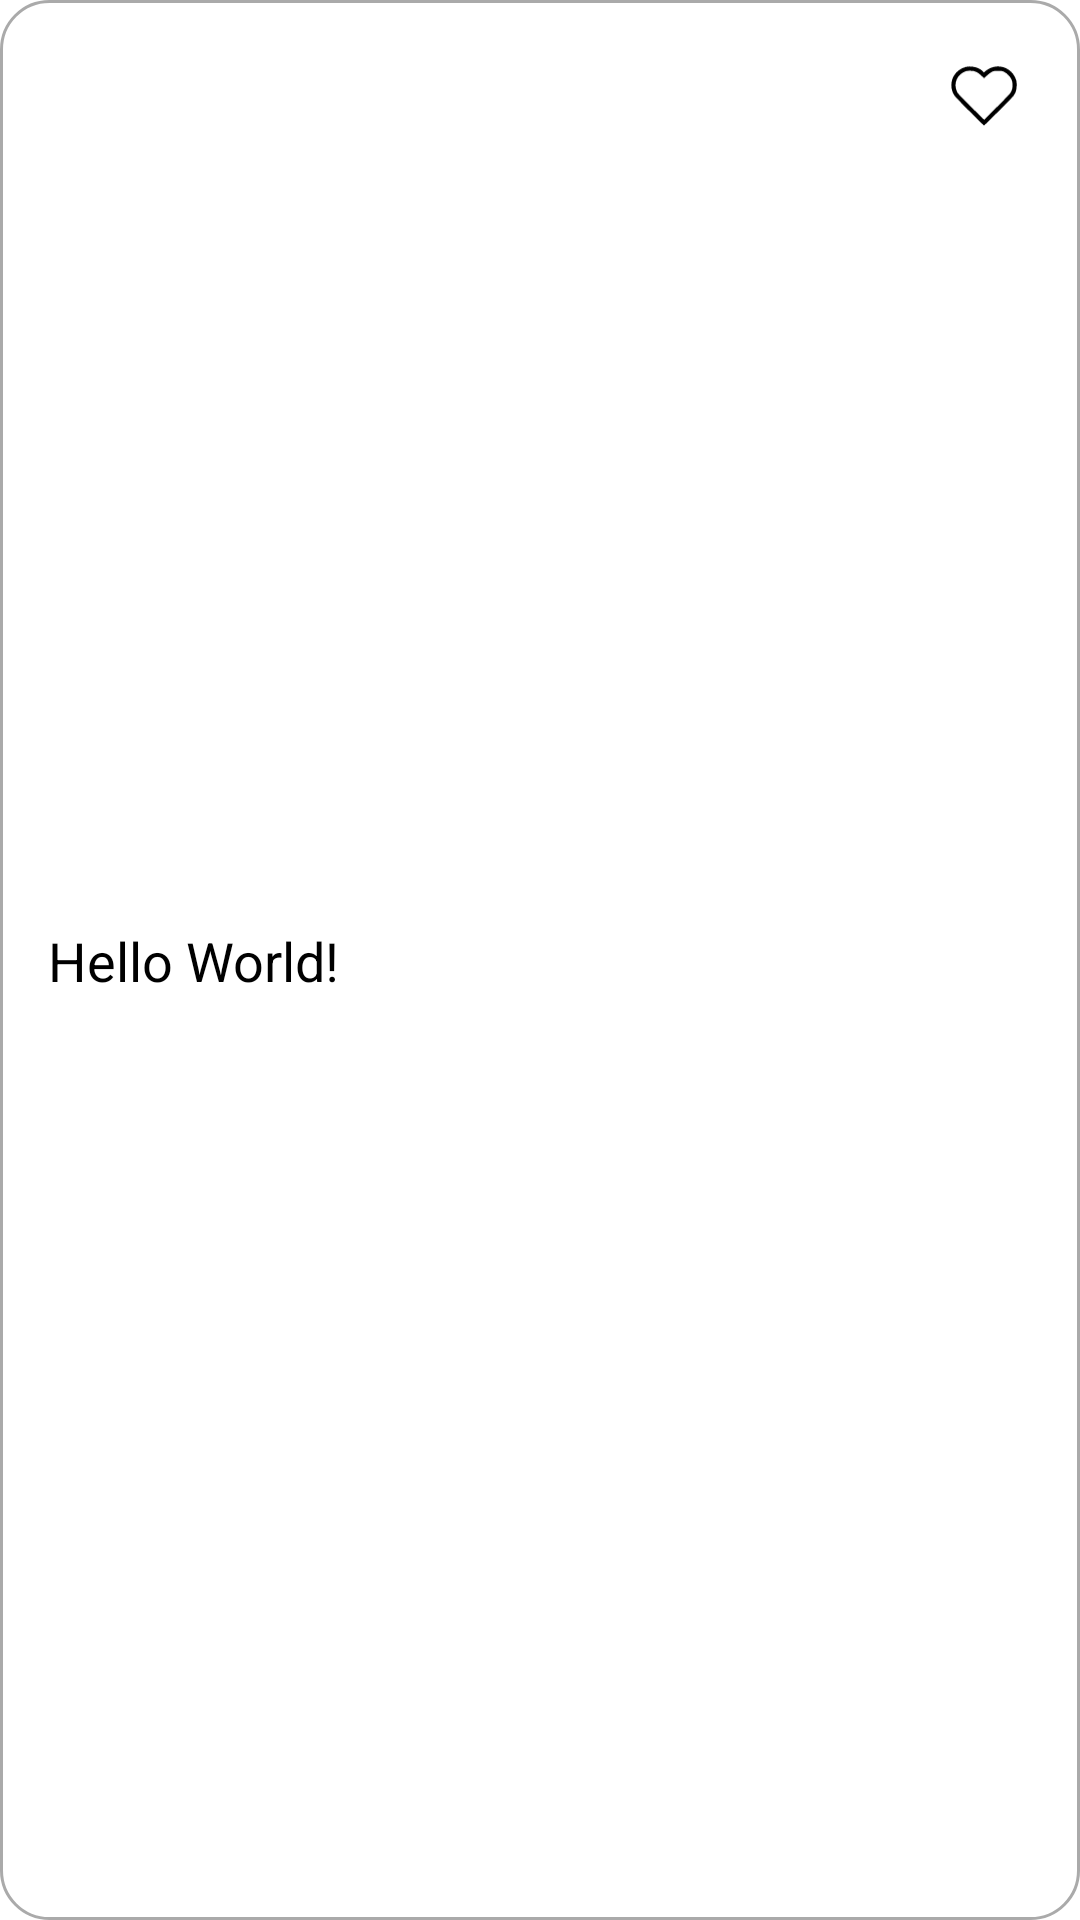

Icon bounding boxes for this 1080*1920 phone screenshot, format (x1, y1, x2, y2):
favorite: (951, 66, 1017, 126)
